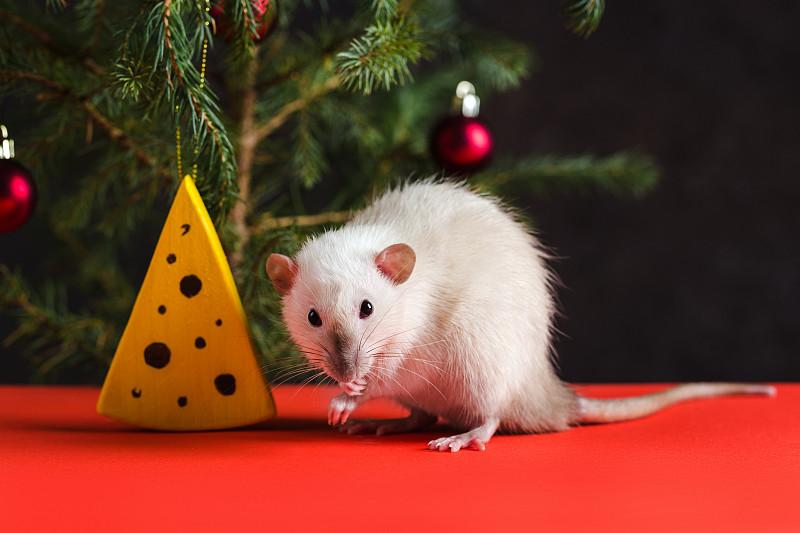rat: (253, 129, 627, 466)
